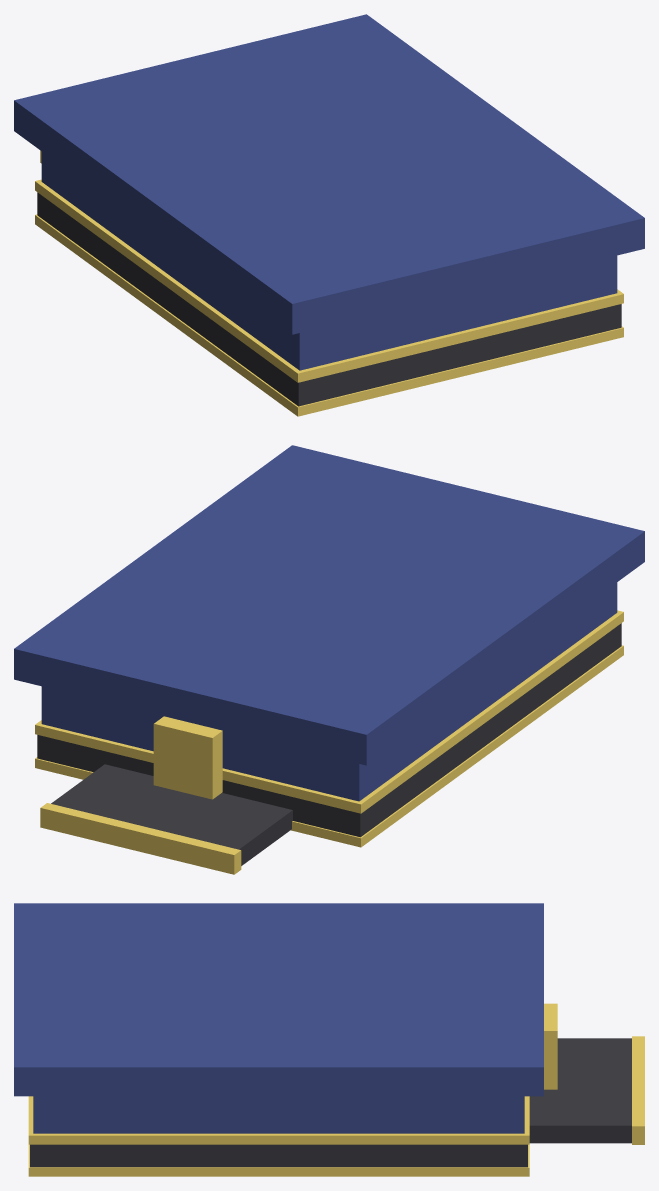
File: bone_capitao_naval.glb
The picture shows the model from 3 angles, top to bottom: view 1: azimuth 30°, elevation 25°; view 2: azimuth 150°, elevation 25°; view 3: azimuth 270°, elevation 25°; orthographic projection. The views are drawn at different scales.
Parts seen in each view (by area): view 1: bone_capitao_naval; view 2: bone_capitao_naval; view 3: bone_capitao_naval.
Boxes of the visible parts, x1,y1,x2,y2 form: bone_capitao_naval: [14, 14, 644, 416]; bone_capitao_naval: [14, 445, 644, 874]; bone_capitao_naval: [14, 903, 644, 1176].
Bounding box in the file's own units: 0.6 × 0.1975 × 0.976.
